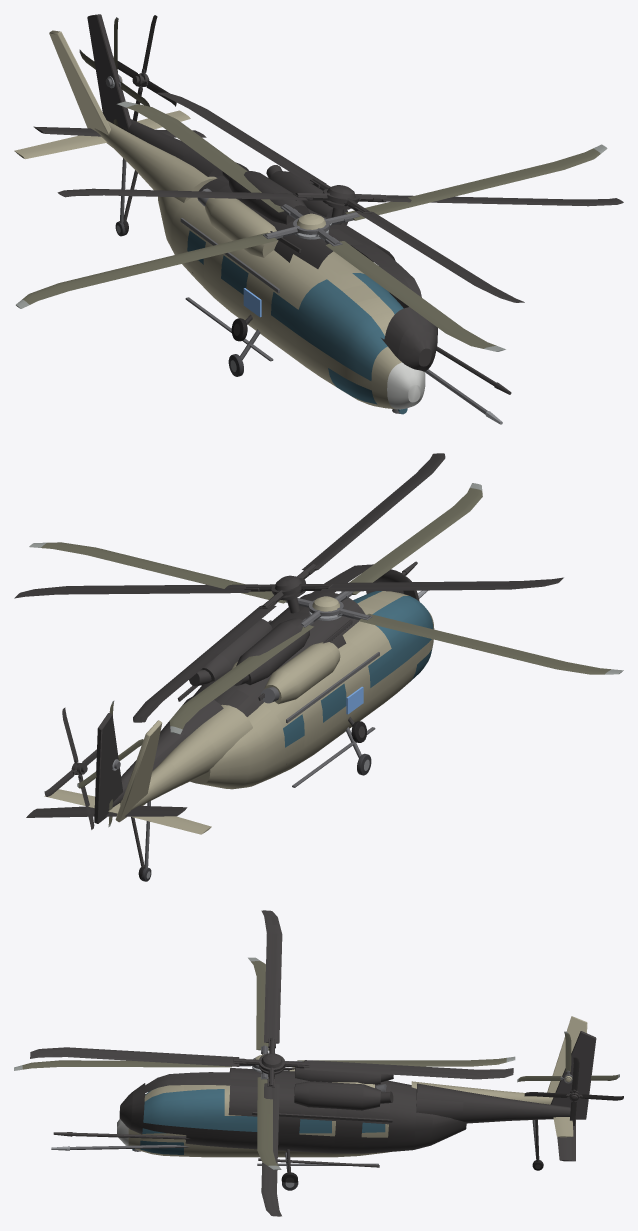
The model's file is helicopter__hh_60p_rescue.glb.
3 views of the same model, one above another, from view 1: azimuth 30°, elevation 25°; view 2: azimuth 150°, elevation 25°; view 3: azimuth 270°, elevation 25° (orthographic). The views are drawn at different scales.
Visible parts, largest first — view 1: Fuselage_Mesh, Wreck, Rotor_Main_Mesh, Engines_Mesh, Landing_Gear_Mesh, Rotor_Tail_Mesh; view 2: Fuselage_Mesh, Wreck, Rotor_Main_Mesh, Engines_Mesh, Landing_Gear_Mesh; view 3: Wreck, Fuselage_Mesh, Rotor_Main_Mesh, Rotor_Tail_Mesh.
Boxes of the visible parts, left/top/right/bottom form: Fuselage_Mesh: left=14, top=30, right=502, bottom=424; Wreck: left=33, top=14, right=623, bottom=394; Rotor_Main_Mesh: left=16, top=101, right=607, bottom=351; Engines_Mesh: left=197, top=188, right=278, bottom=257; Landing_Gear_Mesh: left=115, top=158, right=260, bottom=376; Rotor_Tail_Mesh: left=79, top=17, right=149, bottom=125; Fuselage_Mesh: left=44, top=590, right=434, bottom=834; Wreck: left=14, top=453, right=563, bottom=879; Rotor_Main_Mesh: left=29, top=483, right=623, bottom=734; Engines_Mesh: left=232, top=642, right=340, bottom=704; Landing_Gear_Mesh: left=141, top=727, right=371, bottom=881; Wreck: left=30, top=910, right=623, bottom=1216; Fuselage_Mesh: left=51, top=1016, right=587, bottom=1165; Rotor_Main_Mesh: left=14, top=957, right=515, bottom=1169; Rotor_Tail_Mesh: left=517, top=1031, right=619, bottom=1083.
Size of what is drawn, in the model's own units: 16.77 by 6.21 by 19.9.
